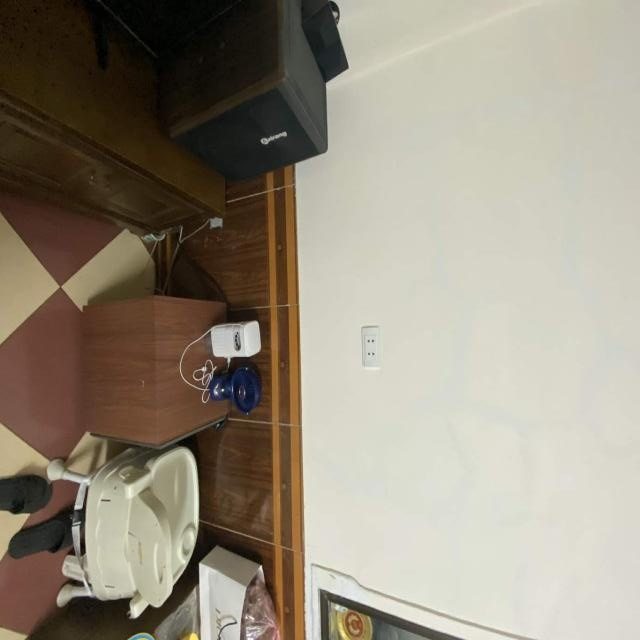outlet: (362, 326, 381, 368)
